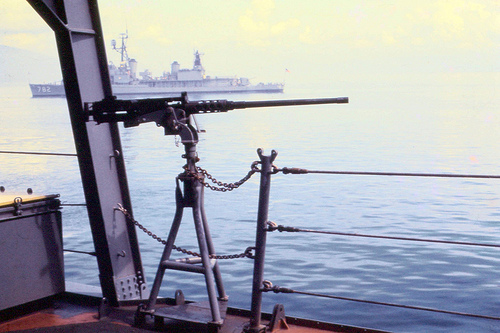rifle: (53, 91, 364, 189)
